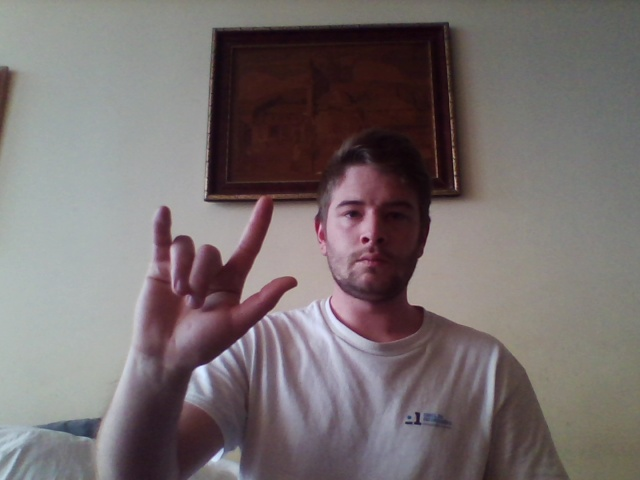volimte: (127, 188, 300, 363)
